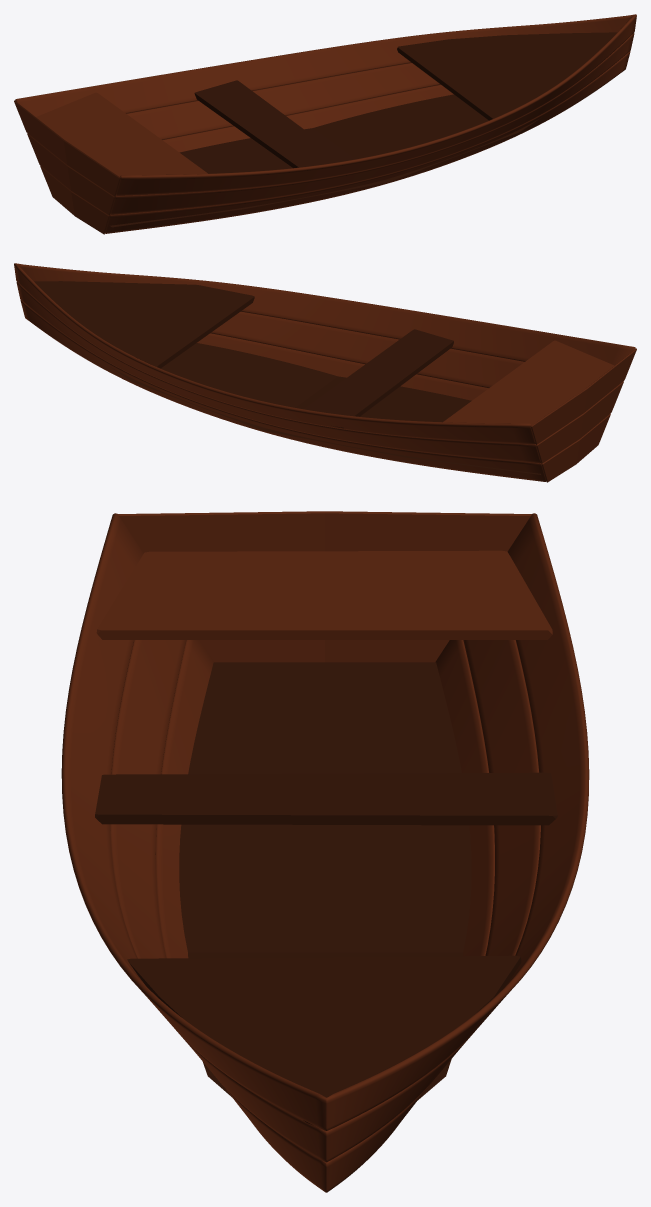
File: boat.obj
3 renders of one model, top to bottom at view 1: azimuth 30°, elevation 25°; view 2: azimuth 150°, elevation 25°; view 3: azimuth 270°, elevation 25°, orthographic. The views are drawn at different scales.
Visible parts, largest first — view 1: side_Cube.003, Plane.004_Plane.005, Plane.001_Plane.002, Plane.003_Plane.004, back_Cube.001, Plane.002_Plane.003; view 2: side_Cube.003, Plane.004_Plane.005, Plane.001_Plane.002, Plane.003_Plane.004, back_Cube.001, Plane.002_Plane.003; view 3: side_Cube.003, Plane.001_Plane.002, Plane.003_Plane.004, Plane.004_Plane.005, Plane.002_Plane.003, back_Cube.001.
Part boxes in pixels (left/top/right/bottom): side_Cube.003: left=15, top=14, right=636, bottom=233; Plane.004_Plane.005: left=397, top=32, right=623, bottom=124; Plane.001_Plane.002: left=110, top=94, right=538, bottom=227; Plane.003_Plane.004: left=36, top=92, right=207, bottom=176; back_Cube.001: left=14, top=100, right=120, bottom=234; Plane.002_Plane.003: left=194, top=80, right=346, bottom=168; side_Cube.003: left=14, top=263, right=635, bottom=481; Plane.004_Plane.005: left=34, top=281, right=254, bottom=368; Plane.001_Plane.002: left=106, top=343, right=540, bottom=474; Plane.003_Plane.004: left=443, top=340, right=614, bottom=425; back_Cube.001: left=530, top=348, right=636, bottom=482; Plane.002_Plane.003: left=304, top=329, right=453, bottom=428; side_Cube.003: left=61, top=513, right=589, bottom=1192; Plane.001_Plane.002: left=179, top=662, right=471, bottom=1101; Plane.003_Plane.004: left=96, top=550, right=552, bottom=639; Plane.004_Plane.005: left=127, top=955, right=521, bottom=1125; Plane.002_Plane.003: left=95, top=772, right=557, bottom=825; back_Cube.001: left=118, top=511, right=531, bottom=662.
Size of what is drawn, in the model's own units: 4.07 by 0.6392 by 1.62.
